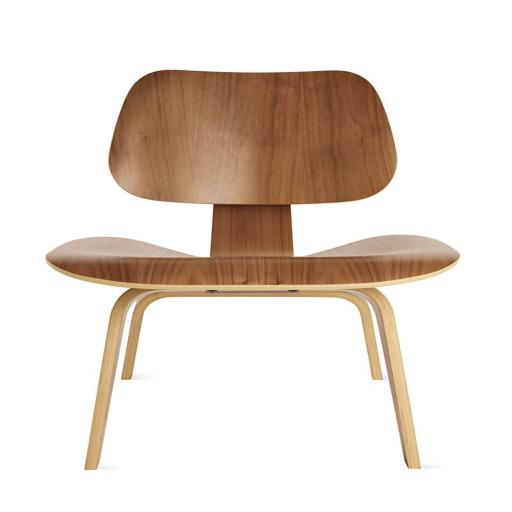chair: (55, 57, 455, 473)
